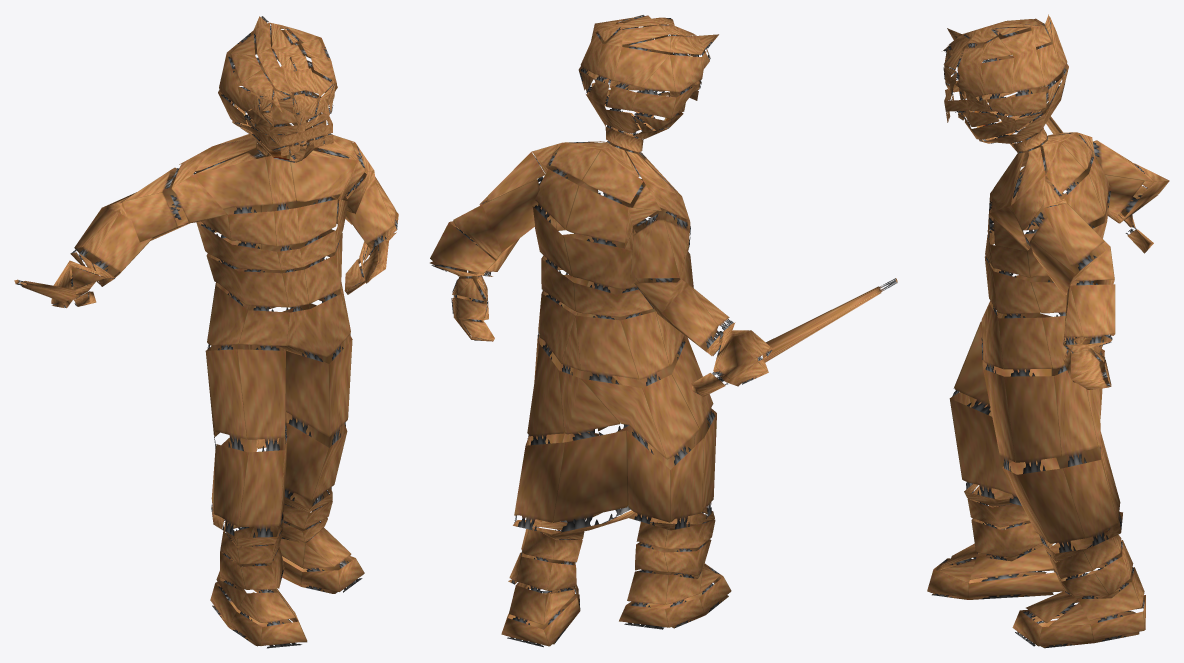
The picture shows the model from 3 angles, left to right: view 1: azimuth 30°, elevation 25°; view 2: azimuth 150°, elevation 25°; view 3: azimuth 270°, elevation 25°; orthographic projection. The views are drawn at different scales.
Visible parts, largest first — view 1: T1L4M007_17; view 2: T1L4M007_17; view 3: T1L4M007_17.
Boxes of the visible parts, x1,y1,x2,y2 form: T1L4M007_17: [14, 16, 398, 648]; T1L4M007_17: [430, 15, 897, 647]; T1L4M007_17: [927, 14, 1169, 648].
Bounding box in the file's own units: 1.03 × 1.38 × 0.5182.
